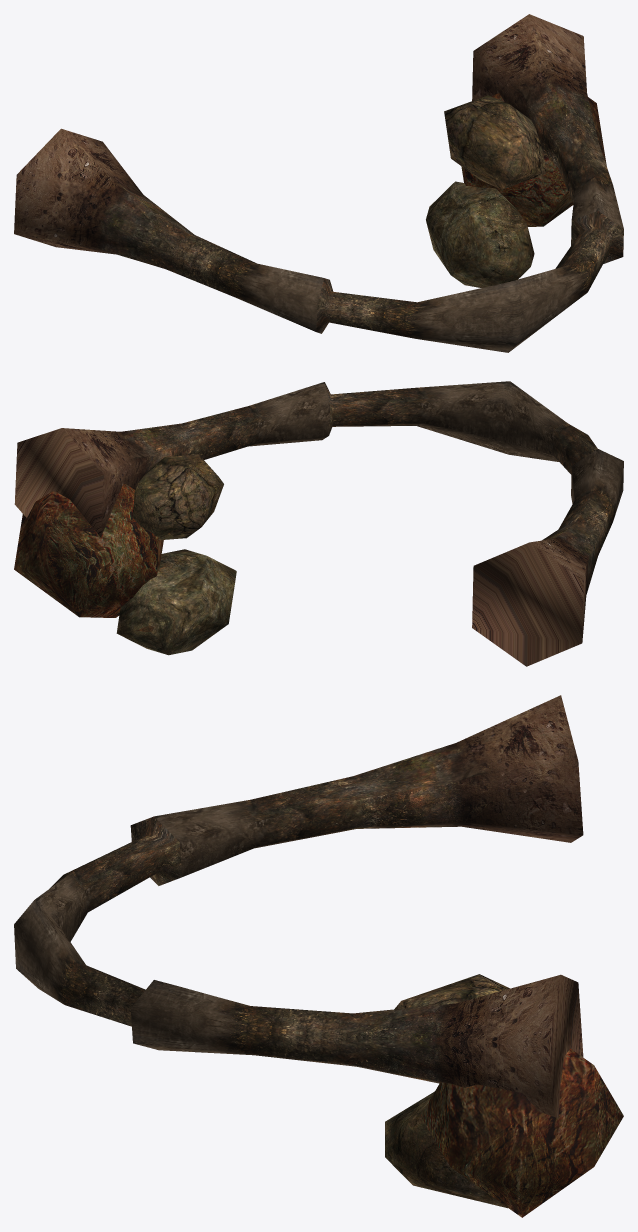
Rendered from rock-pillar_02.obj.
3 renders of one model, top to bottom at view 1: azimuth 30°, elevation 25°; view 2: azimuth 150°, elevation 25°; view 3: azimuth 270°, elevation 25°, orthographic. The views are drawn at different scales.
Visible parts, largest first — view 1: (null); view 2: (null); view 3: (null).
Part boxes in pixels (x1,y1,x2,y2): (null): (14, 14, 623, 352); (null): (14, 381, 623, 666); (null): (14, 695, 623, 1217).
Bounding box in the file's own units: 12.73 × 4.74 × 9.58.
